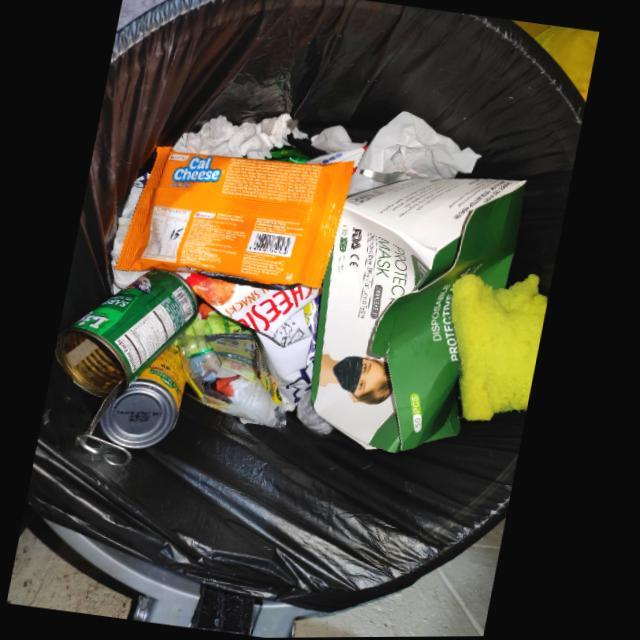metal: (60, 270, 203, 467), (106, 344, 192, 449)
paper: (316, 178, 529, 453), (175, 114, 294, 161)
wrapper: (119, 146, 359, 291), (181, 272, 323, 405), (212, 335, 263, 381)
